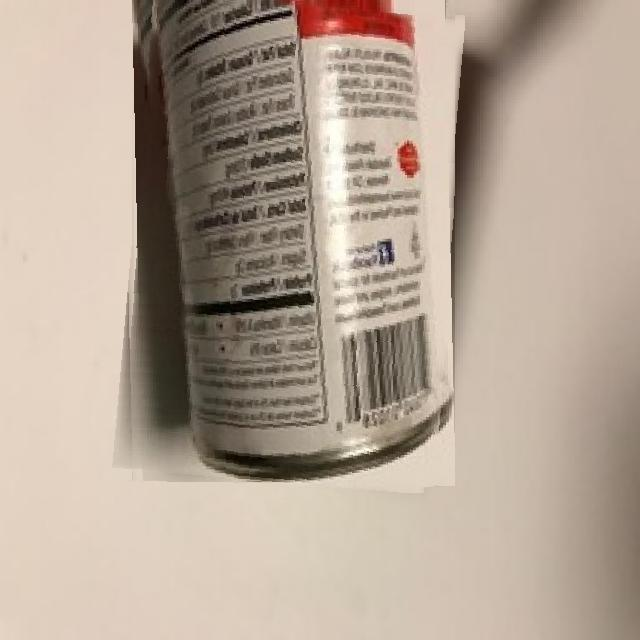recyclable: (122, 0, 455, 487)
